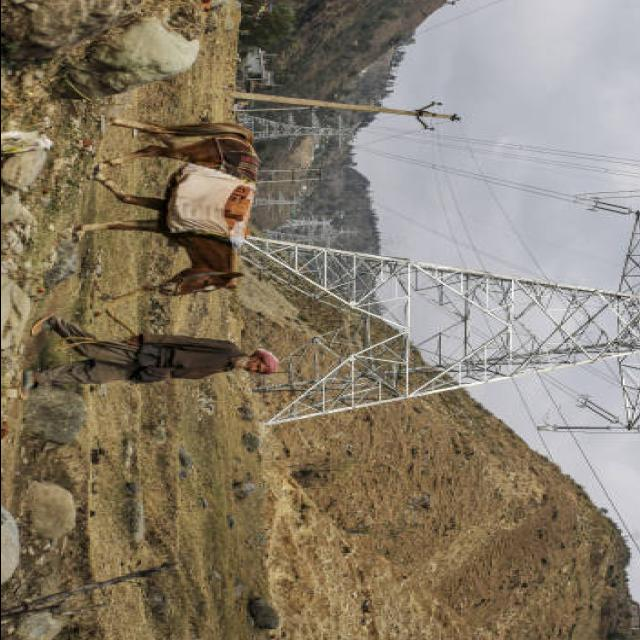civilian: (24, 316, 278, 391)
